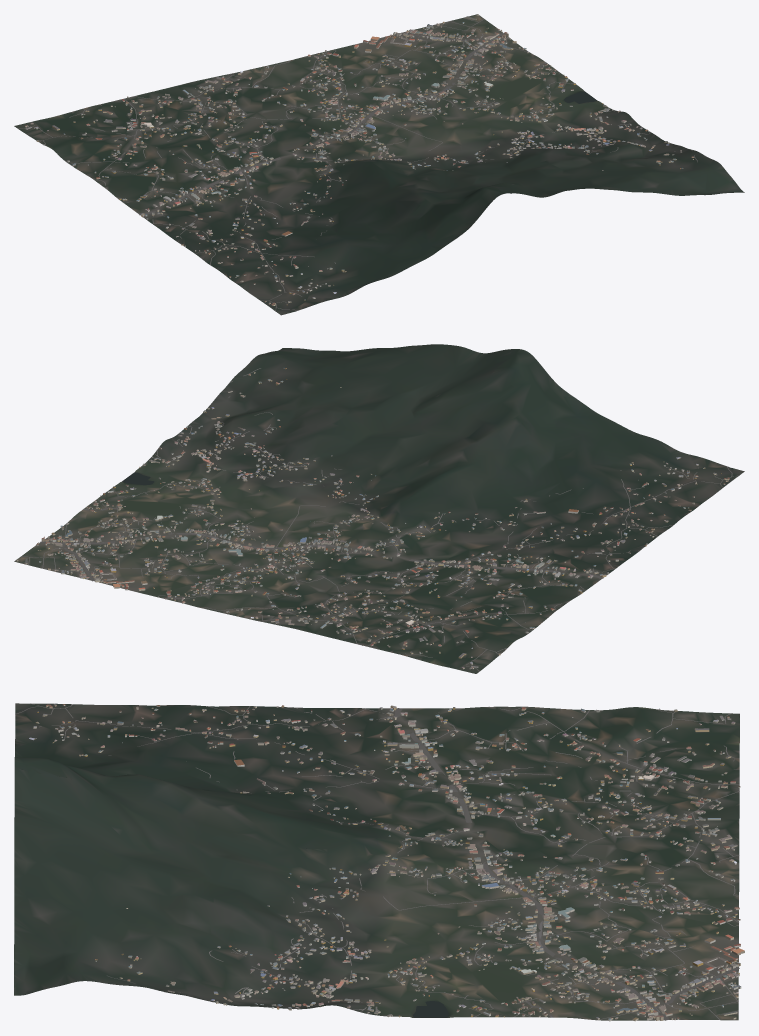
The picture shows the model from 3 angles, top to bottom: view 1: azimuth 30°, elevation 25°; view 2: azimuth 150°, elevation 25°; view 3: azimuth 270°, elevation 25°; orthographic projection. The views are drawn at different scales.
Visible parts, largest first — view 1: ground, buildings, roads; view 2: ground, buildings, roads; view 3: ground, buildings, roads.
Boxes of the visible parts, x1=… form: ground: x1=14, y1=14, x2=744, y2=315; buildings: x1=25, y1=14, x2=694, y2=305; roads: x1=17, y1=17, x2=697, y2=311; ground: x1=14, y1=344, x2=744, y2=673; buildings: x1=16, y1=367, x2=729, y2=669; roads: x1=21, y1=368, x2=738, y2=671; ground: x1=14, y1=703, x2=739, y2=1020; buildings: x1=29, y1=703, x2=744, y2=1021; roads: x1=15, y1=703, x2=739, y2=1020.
Bounding box in the file's own units: 2813 × 440 × 2828.
